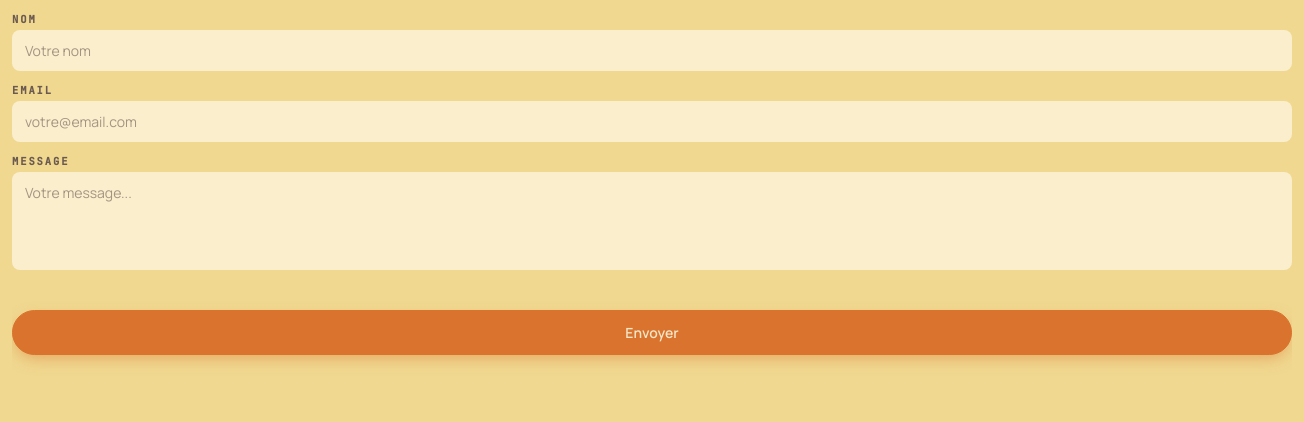
Test: ContactForm - Security › requires captcha before submission
The width and height of the screenshot is (1304, 422).
Type "John" into the field labelled "Nom". click: [652, 50]
box: [12,30,1292,71]
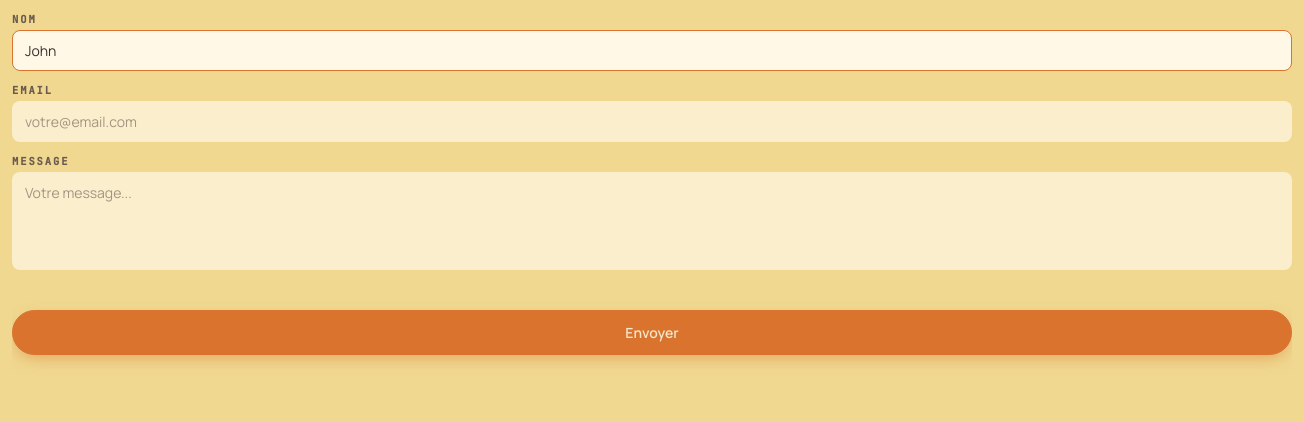
Type "john@example.com" into the field labelled "Email". click: [652, 122]
box: [12,101,1292,142]
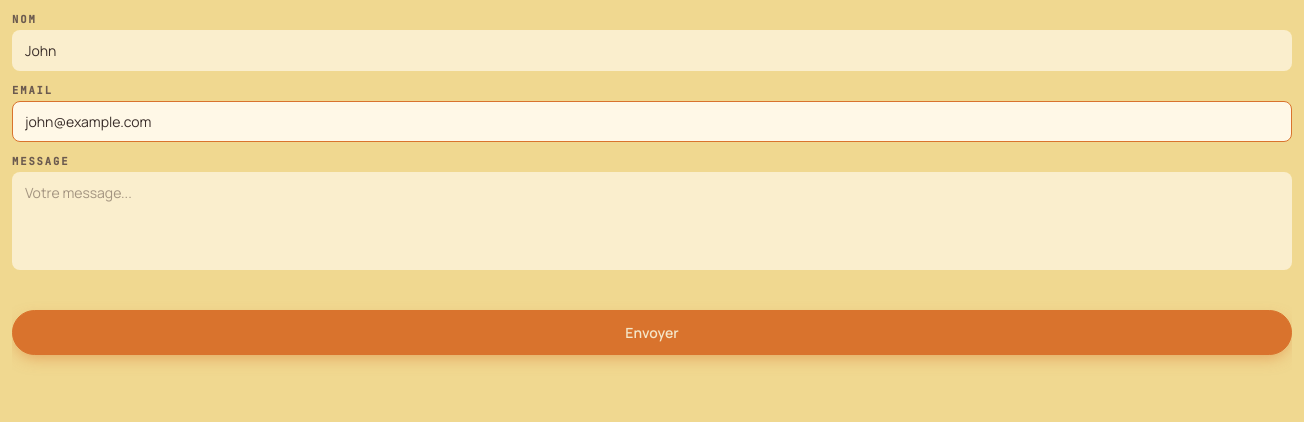
Type "Bonjour, ceci est un message de test pour le formulaire." into the text box labelled "Message". click: [652, 221]
box: [12,172,1292,270]
Wait 4000 ms
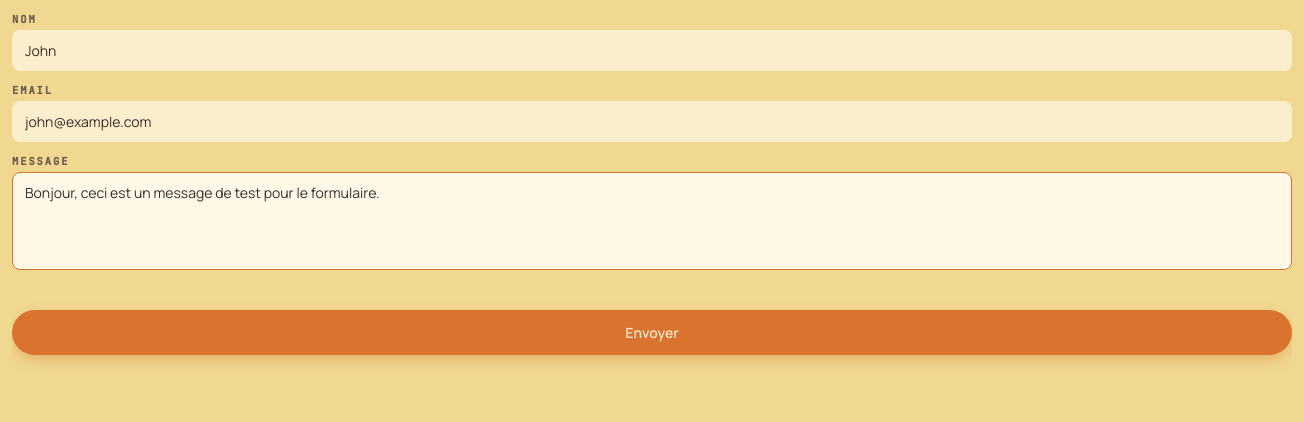
Click the button "Envoyer". click: [652, 332]
box: [12,310,1292,355]
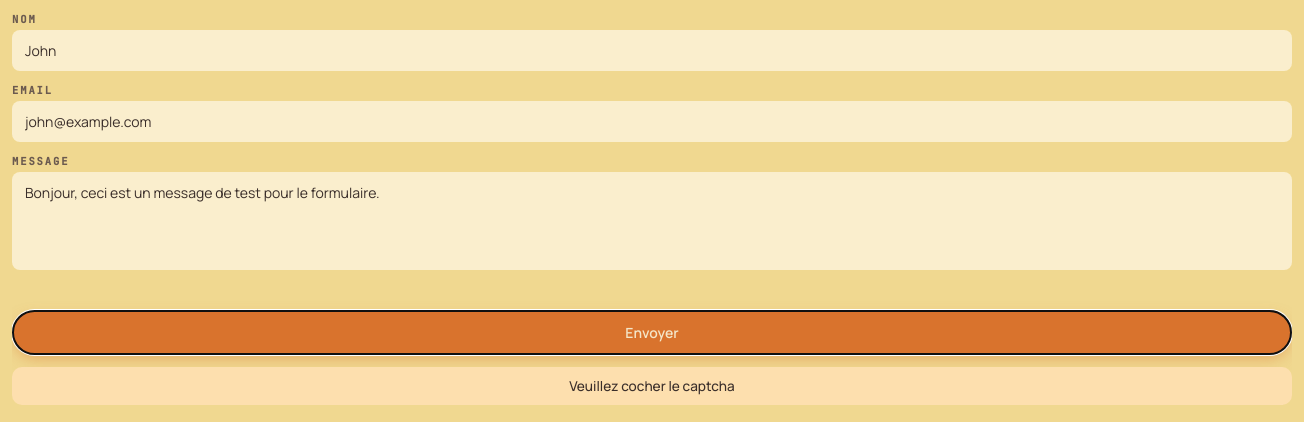
Expected: the text "Veuillez cocher le captcha" is shown, [12,367,1292,405]
